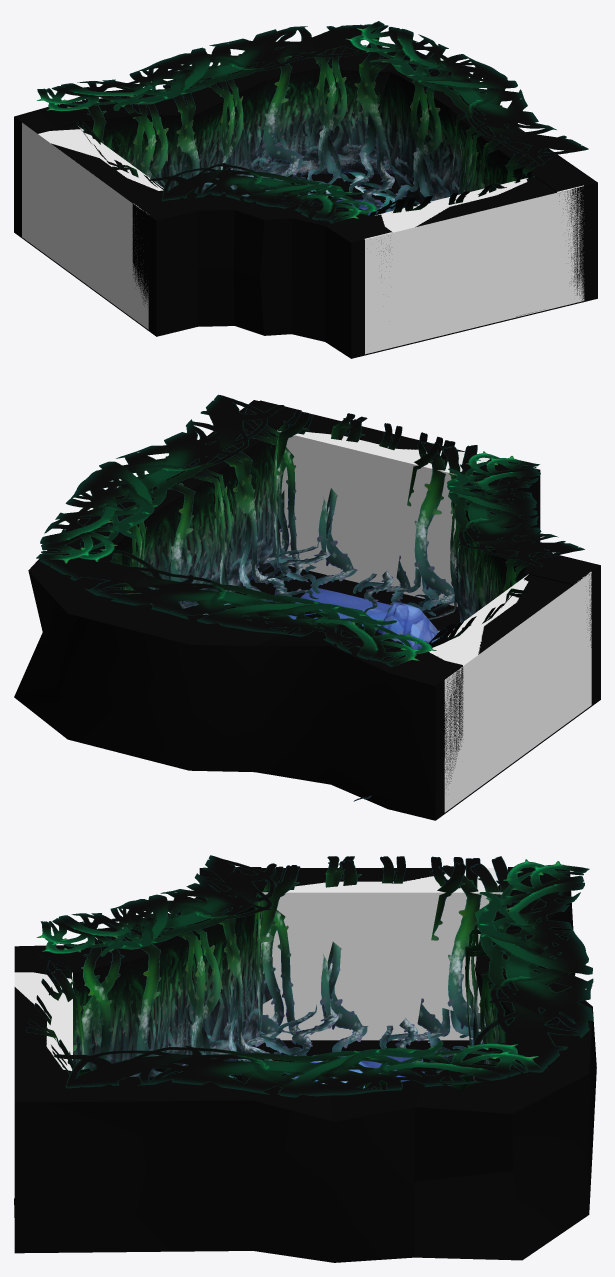
File: Dungeon_012_RoadL_003.fbx
The picture shows the model from 3 angles, top to bottom: view 1: azimuth 30°, elevation 25°; view 2: azimuth 150°, elevation 25°; view 3: azimuth 270°, elevation 25°; orthographic projection. The views are drawn at different scales.
Visible parts, largest first — view 1: Dan1, DoorWay_NavMask (1) (×2), Dungeon_021_Tsuta_002, Dungeon_021_Tsuta_001, un_021_Door_002 (×2), DoorWay_NavMask (×2), un_021_Door_002_Object1 (×2), Dan1_shadow, Dungeon_021_Tsuta_003; view 2: Dan1, Dungeon_021_Tsuta_002, DoorWay_NavMask (1), DoorWay_NavMask (×2), un_021_Door_002_Object1 (×2), Dungeon_021_Tsuta_001, un_021_Door_002 (×2), Dungeon_011_Object_012, Dan1_shadow, Dan2, Dun_011_Door_002_shadow; view 3: Dan1, Dungeon_021_Tsuta_002, DoorWay_NavMask (×2), un_021_Door_002_Object1 (×2), Dungeon_021_Tsuta_001, un_021_Door_002 (×2), Dan1_shadow, DoorWay_NavMask (1), Dun_011_Door_002_shadow.
Part boxes in pixels (<box>): Dan1: <box>14,47,597,358</box>; DoorWay_NavMask (1) (×2): <box>22,122,584,354</box>; Dungeon_021_Tsuta_002: <box>37,21,588,223</box>; Dungeon_021_Tsuta_001: <box>82,45,555,215</box>; un_021_Door_002 (×2): <box>17,113,592,348</box>; DoorWay_NavMask (×2): <box>38,126,527,231</box>; un_021_Door_002_Object1 (×2): <box>73,120,534,216</box>; Dan1_shadow: <box>281,173,532,316</box>; Dungeon_021_Tsuta_003: <box>261,171,395,214</box>; Dan1: <box>14,400,600,820</box>; Dungeon_021_Tsuta_002: <box>36,394,584,667</box>; DoorWay_NavMask (1): <box>436,572,591,812</box>; DoorWay_NavMask (×2): <box>277,430,528,665</box>; un_021_Door_002_Object1 (×2): <box>259,411,535,801</box>; Dungeon_021_Tsuta_001: <box>80,408,549,648</box>; un_021_Door_002 (×2): <box>243,400,596,800</box>; Dungeon_011_Object_012: <box>376,601,439,649</box>; Dan1_shadow: <box>223,564,460,637</box>; Dan2: <box>289,587,391,629</box>; Dun_011_Door_002_shadow: <box>318,575,422,604</box>; Dan1: <box>14,868,596,1262</box>; Dungeon_021_Tsuta_002: <box>36,855,593,1097</box>; DoorWay_NavMask (×2): <box>15,868,507,1070</box>; un_021_Door_002_Object1 (×2): <box>26,856,509,1074</box>; Dungeon_021_Tsuta_001: <box>78,867,559,1089</box>; un_021_Door_002 (×2): <box>14,867,561,1097</box>; Dan1_shadow: <box>14,1040,484,1217</box>; DoorWay_NavMask (1): <box>14,972,55,1058</box>; Dun_011_Door_002_shadow: <box>320,1040,421,1054</box>.
Size of what is drawn, in the model's own units: 7.27 by 2.36 by 7.14.
